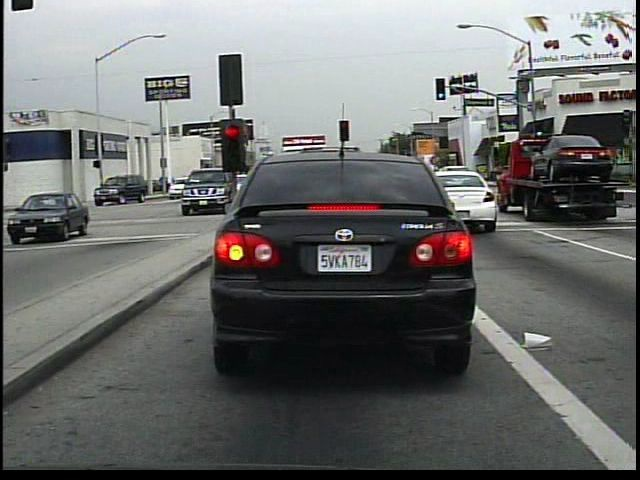person: (181, 174, 203, 199)
